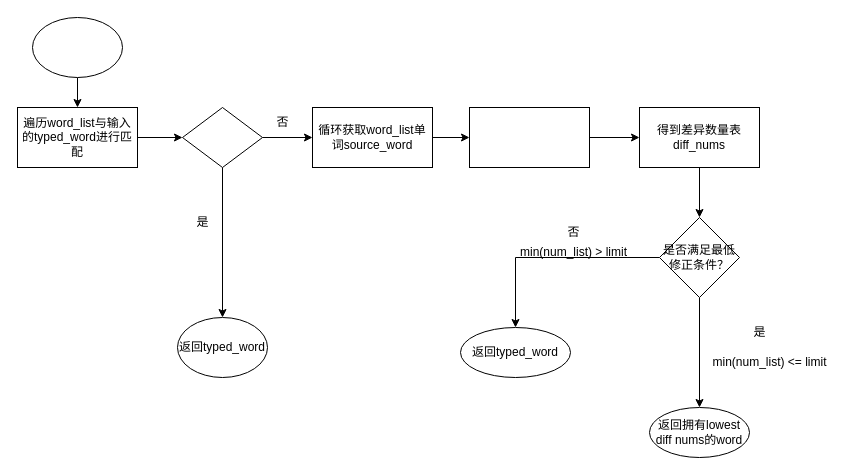
This 857x475 diagram has some shape labels left out. Here are the shapes that lost their labels. From the top down, the box of each, then its label:
(32, 16, 122, 78): typed_word
(182, 106, 262, 168): 是否匹配
(468, 106, 590, 168): diff_function处理
